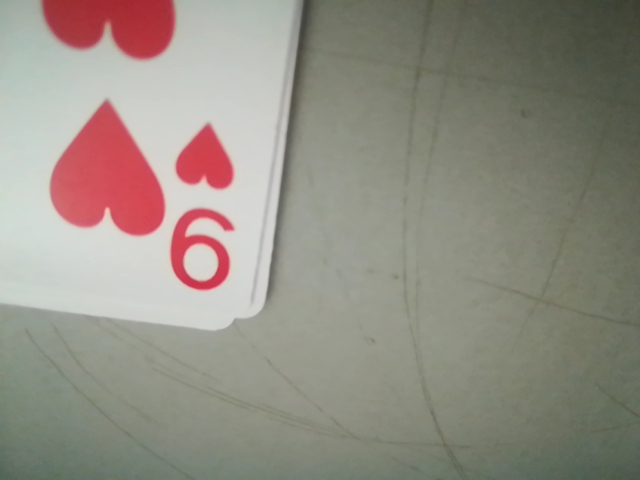hx 9: (164, 120, 246, 307)
